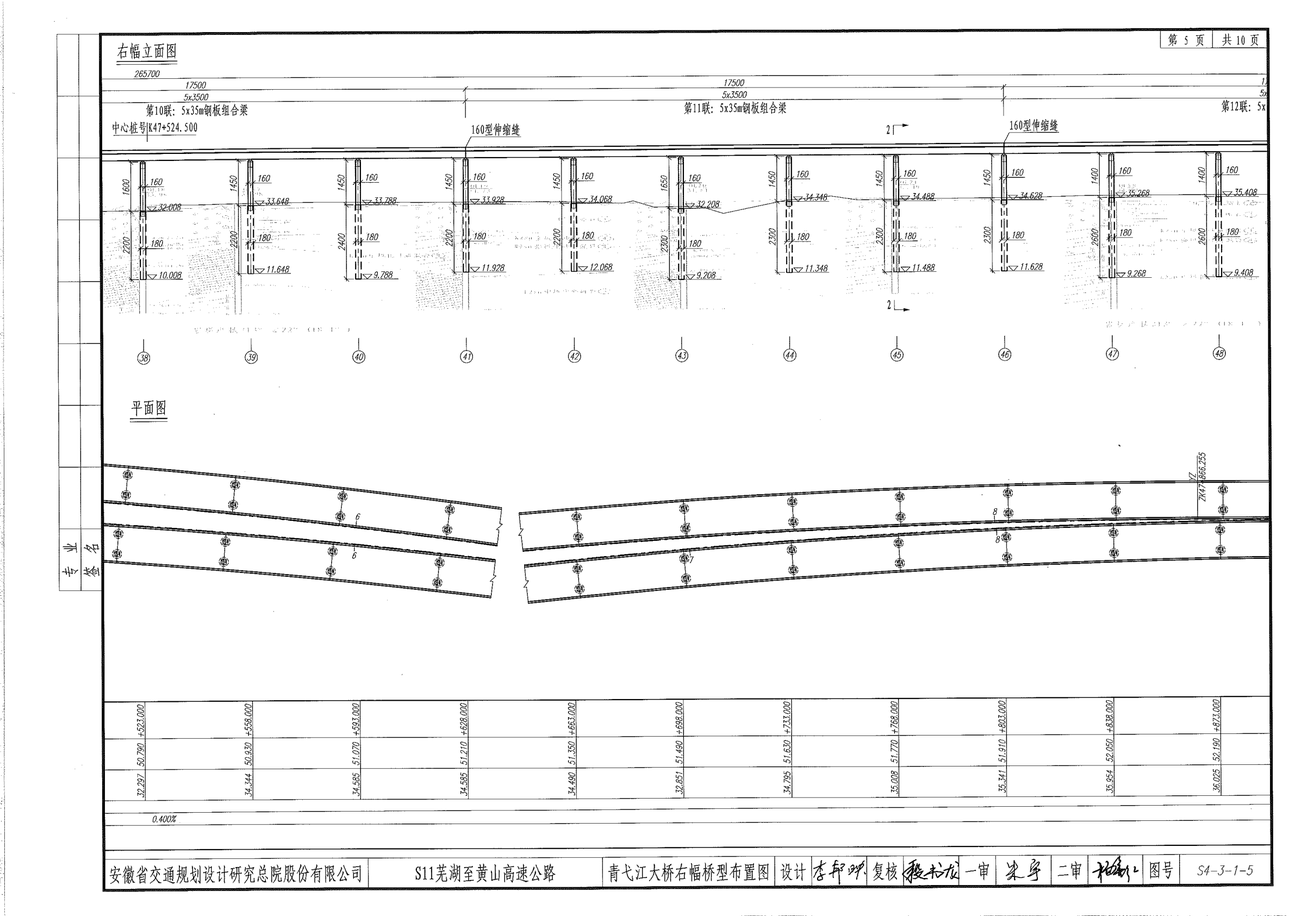A: (78, 39, 1274, 375)
